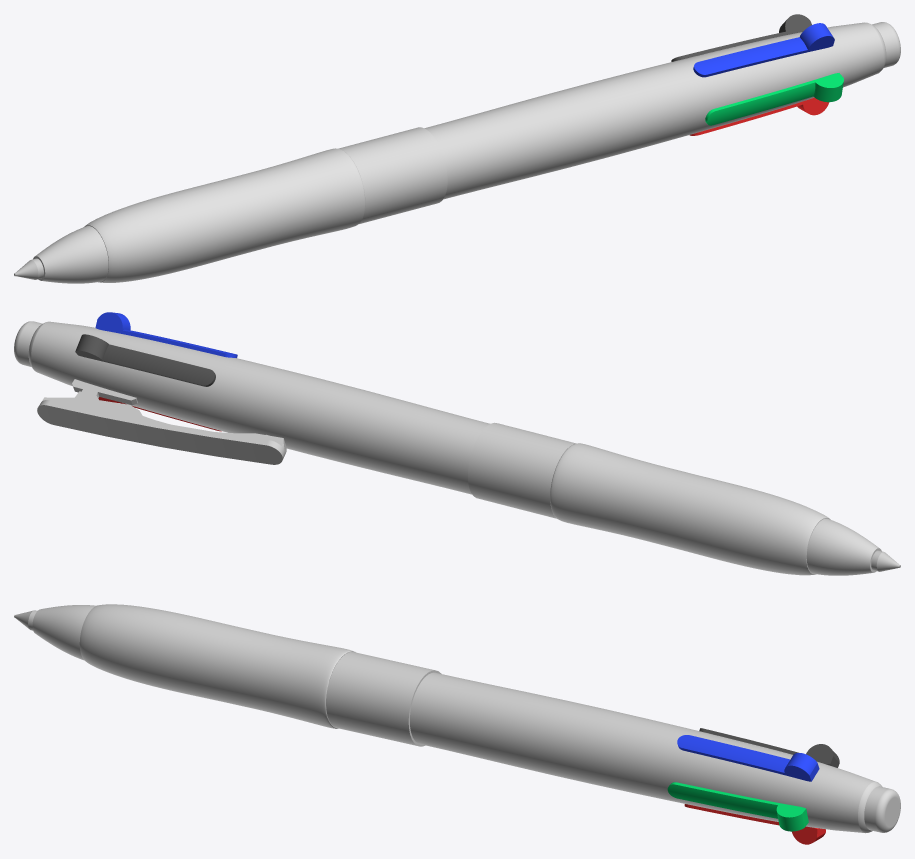
The model's file is pen.glb.
3 views of the same model, one above another, from view 1: azimuth 30°, elevation 25°; view 2: azimuth 150°, elevation 25°; view 3: azimuth 330°, elevation 25° (orthographic).
Visible parts, largest first — view 1: body.001; view 2: body.001; view 3: body.001.
Boxes of the visible parts, bbox=[...] form: body.001: bbox=[14, 14, 900, 283]; body.001: bbox=[14, 312, 900, 575]; body.001: bbox=[14, 604, 900, 844].
Size of the model in its own units: 0.1381 by 0.0139 by 0.0179.
